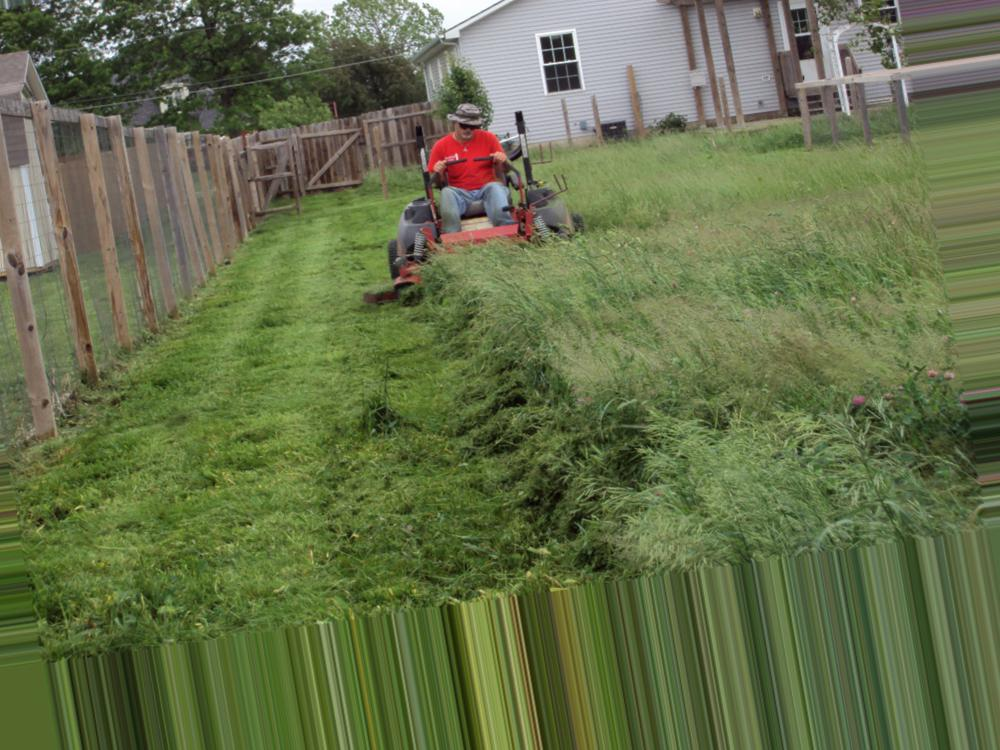patch: (656, 307, 827, 361), (697, 206, 772, 247)
